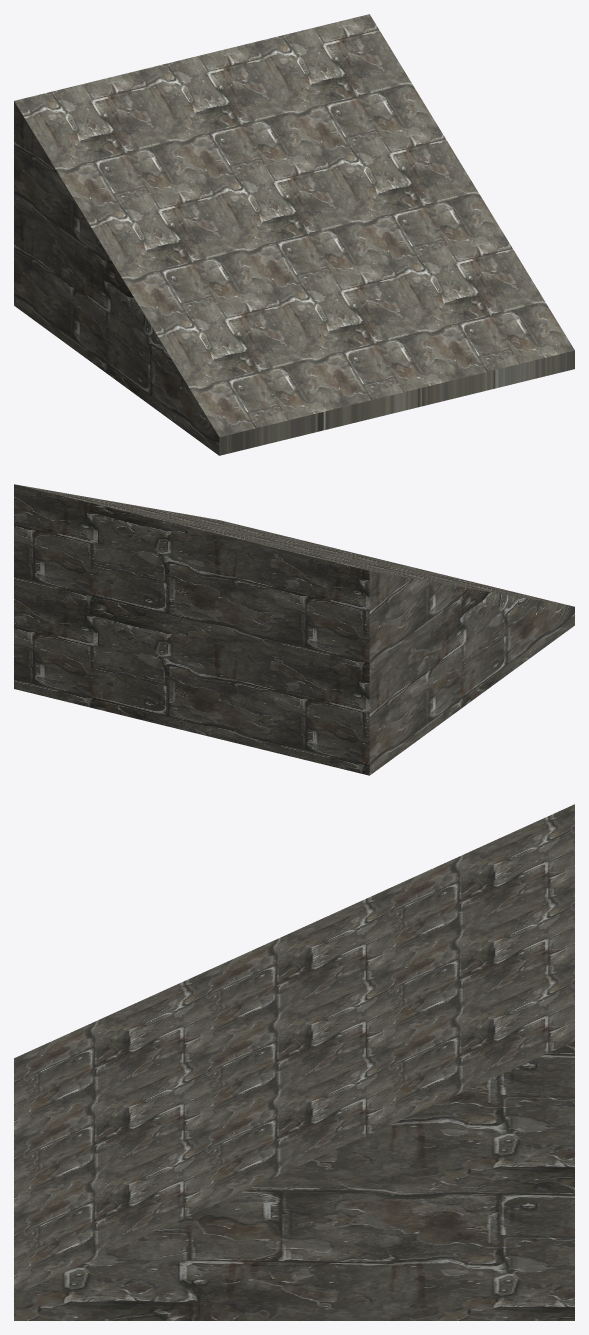
The model's file is Ramp_metal1.glb.
3 renders of one model, top to bottom at view 1: azimuth 30°, elevation 25°; view 2: azimuth 150°, elevation 25°; view 3: azimuth 270°, elevation 25°, orthographic. The views are drawn at different scales.
Visible parts, largest first — view 1: Cube; view 2: Cube; view 3: Cube.
Boxes of the visible parts, <box> form: Cube: <box>14,14,574,455</box>; Cube: <box>14,484,574,775</box>; Cube: <box>14,804,574,1320</box>.
Size of what is drawn, in the model's own units: 4 by 2.2 by 4.
Materials: 1 (1 with a texture image).
